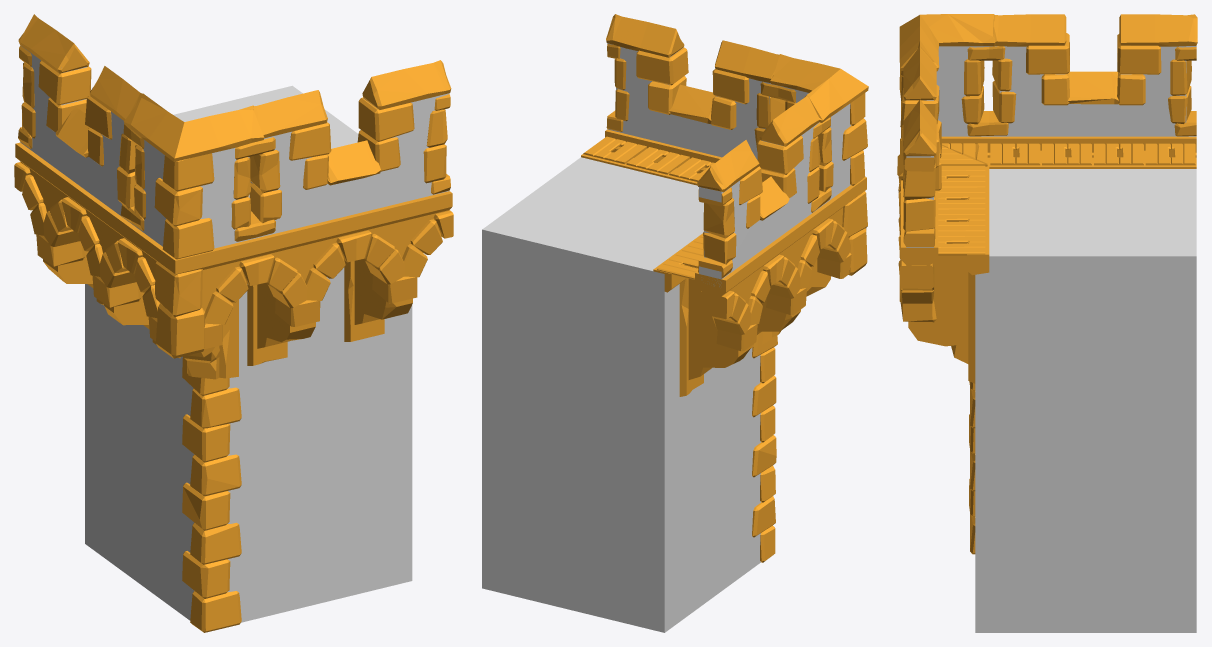
File: SM_Rampart_3x6m_Mach_Corner_A_Fantasy_Base.fbx
3 renders of one model, left to right at view 1: azimuth 30°, elevation 25°; view 2: azimuth 150°, elevation 25°; view 3: azimuth 270°, elevation 25°, orthographic. The views are drawn at different scales.
Parts seen in each view (by area): view 1: SM_Rampart_3x6m_Mach_Corner_A_Fantasy_Base; view 2: SM_Rampart_3x6m_Mach_Corner_A_Fantasy_Base; view 3: SM_Rampart_3x6m_Mach_Corner_A_Fantasy_Base.
Part boxes in pixels (x1,y1,x2,y2): SM_Rampart_3x6m_Mach_Corner_A_Fantasy_Base: [14, 14, 453, 632]; SM_Rampart_3x6m_Mach_Corner_A_Fantasy_Base: [482, 14, 868, 632]; SM_Rampart_3x6m_Mach_Corner_A_Fantasy_Base: [897, 14, 1197, 632].
Size of the model in its own units: 4.35 by 8.02 by 4.35.
